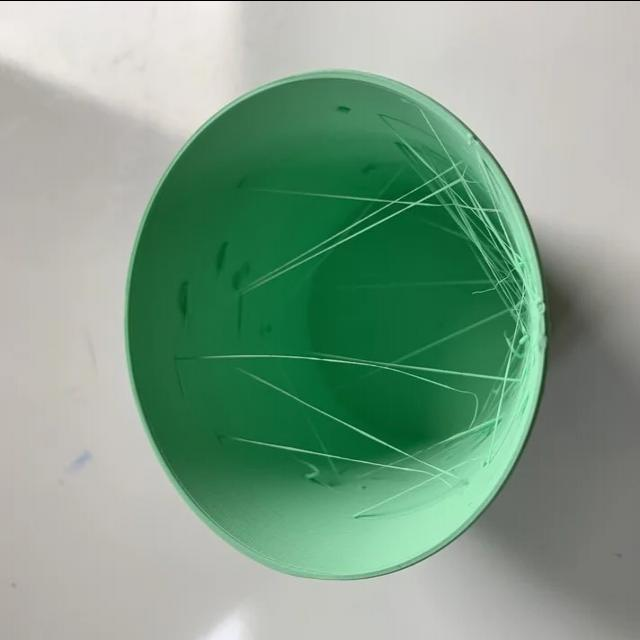Stringing: (228, 153, 474, 298), (394, 127, 533, 328), (239, 363, 451, 483), (200, 343, 522, 389)
